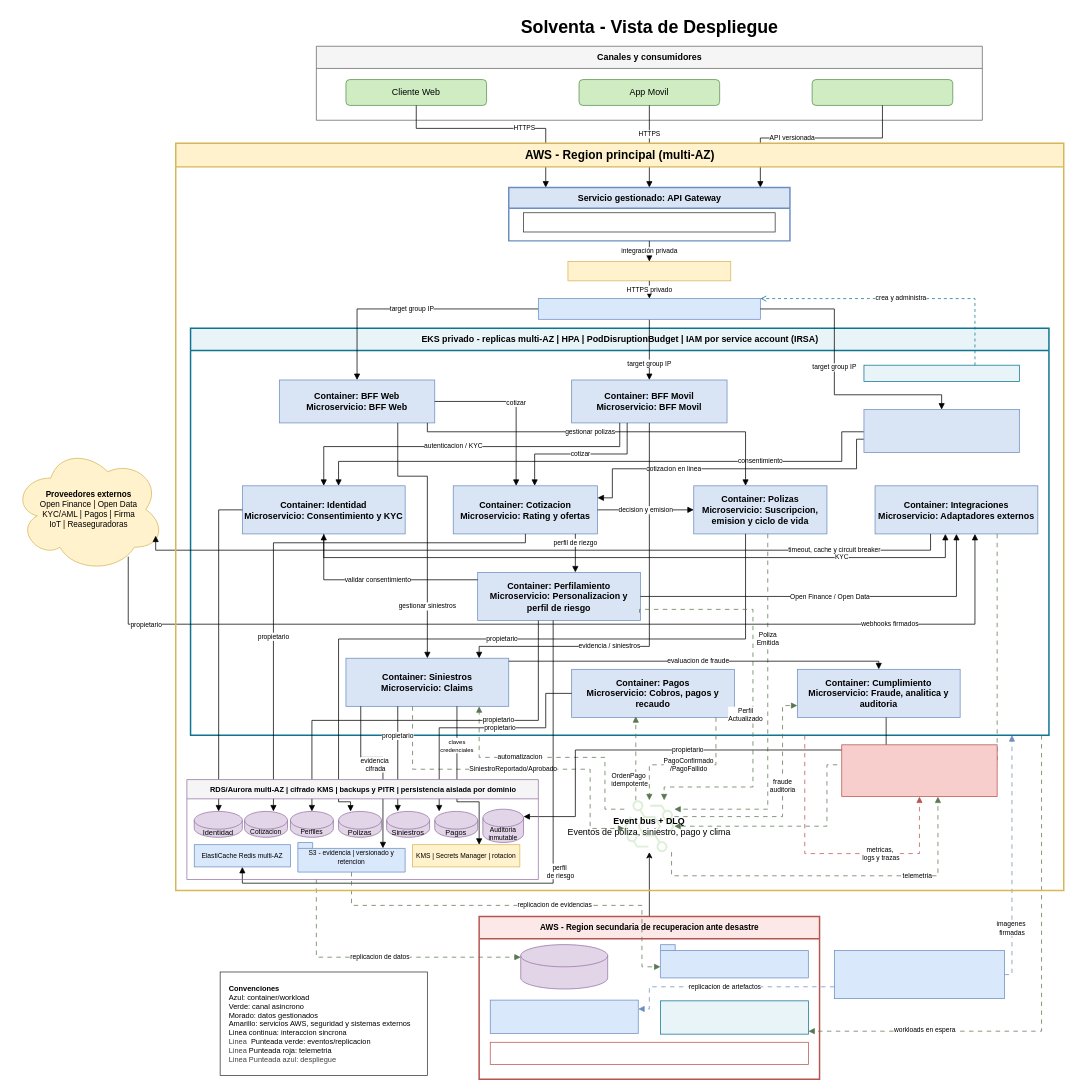
This 1077x1092 diagram has some shape labels left out. Here are the shapes that lost their labels. From the top down, the centre of each, then its label:
At point (882, 92): "Socios embedded".
At point (649, 222): "WAF | OAuth2/JWT | cuotas | versionado".
At point (649, 271): "API Gateway VPC Link V2".
At point (649, 308): "ALB interno | TLS / ACM | Target Groups tipo IP".
At point (941, 372): "AWS Load Balancer Controller".
At point (941, 431): "Container: API Socios Microservicio: API Socios".
At point (919, 770): "Plataforma de observabilidad Metricas, logs, trazas y alertas".
At point (564, 966): "RDS/Aurora replica secundaria".
At point (734, 961): "S3 evidencias replicadas".
At point (919, 974): "DevSecOps / CI-CD escaneo y firma | ECR | despliegue GitOps".
At point (564, 1016): "ECR + configuracion artefactos replicados".
At point (734, 1017): "EKS workloads en espera".
At point (649, 1053): "Pruebas periodicas de restauracion | RTO <= 5 min | RPO <= 30 s".
